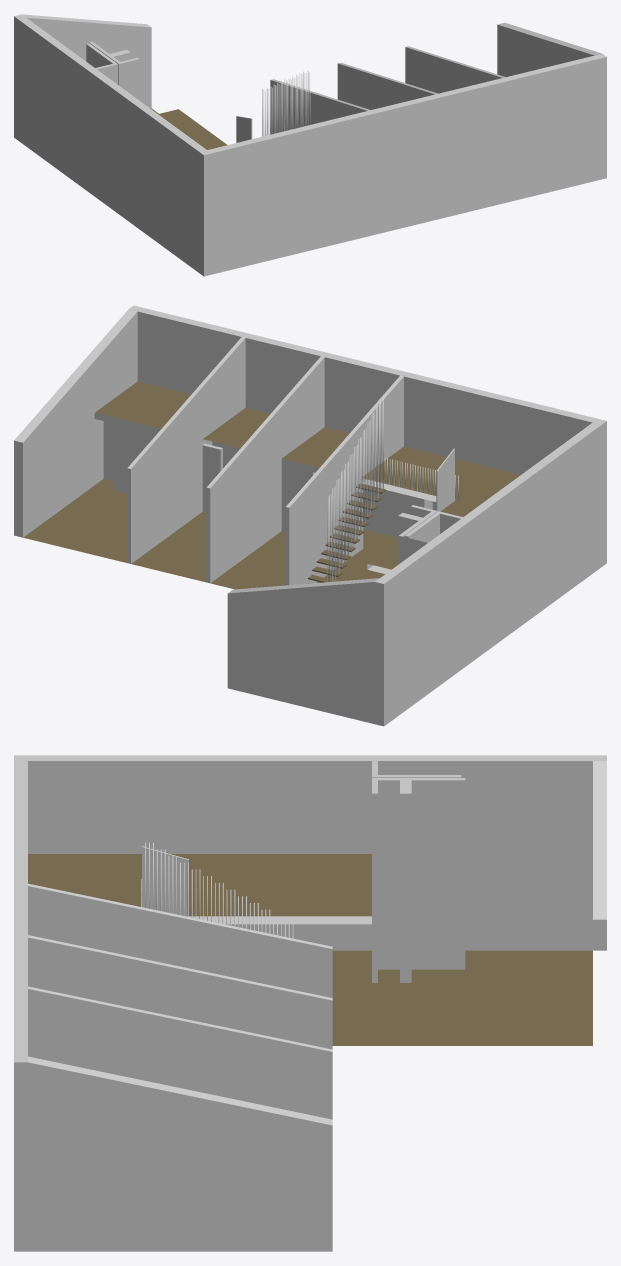
File: haus_3glb.glb
3 renders of one model, top to bottom at view 1: azimuth 30°, elevation 25°; view 2: azimuth 150°, elevation 25°; view 3: azimuth 270°, elevation 25°, orthographic. The views are drawn at different scales.
Visible parts, largest first — view 1: Plane.001, Cylinder.003, Plane.003; view 2: Plane.001, Plane.002, Plane.003, Cylinder.003, Cube.001, Cylinder.002; view 3: Plane.001, Plane.002, Plane.003, Cylinder.003.
Boxes of the visible parts, bbox=[...] form: Plane.001: bbox=[14, 14, 606, 276]; Cylinder.003: bbox=[262, 70, 310, 136]; Plane.003: bbox=[158, 109, 227, 149]; Plane.001: bbox=[14, 305, 606, 726]; Plane.002: bbox=[23, 479, 398, 589]; Plane.003: bbox=[95, 381, 520, 569]; Cylinder.003: bbox=[327, 395, 383, 581]; Cube.001: bbox=[308, 483, 385, 583]; Cylinder.002: bbox=[384, 458, 458, 501]; Plane.001: bbox=[14, 755, 606, 1251]; Plane.002: bbox=[332, 950, 592, 1045]; Plane.003: bbox=[28, 854, 371, 916]; Cylinder.003: bbox=[145, 842, 293, 938].
Bounding box in the file's own units: 1.53 × 0.4995 × 1.25.
